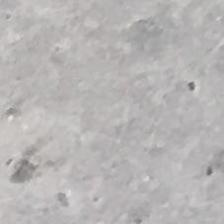Non_Crack: (47, 0, 170, 221)
